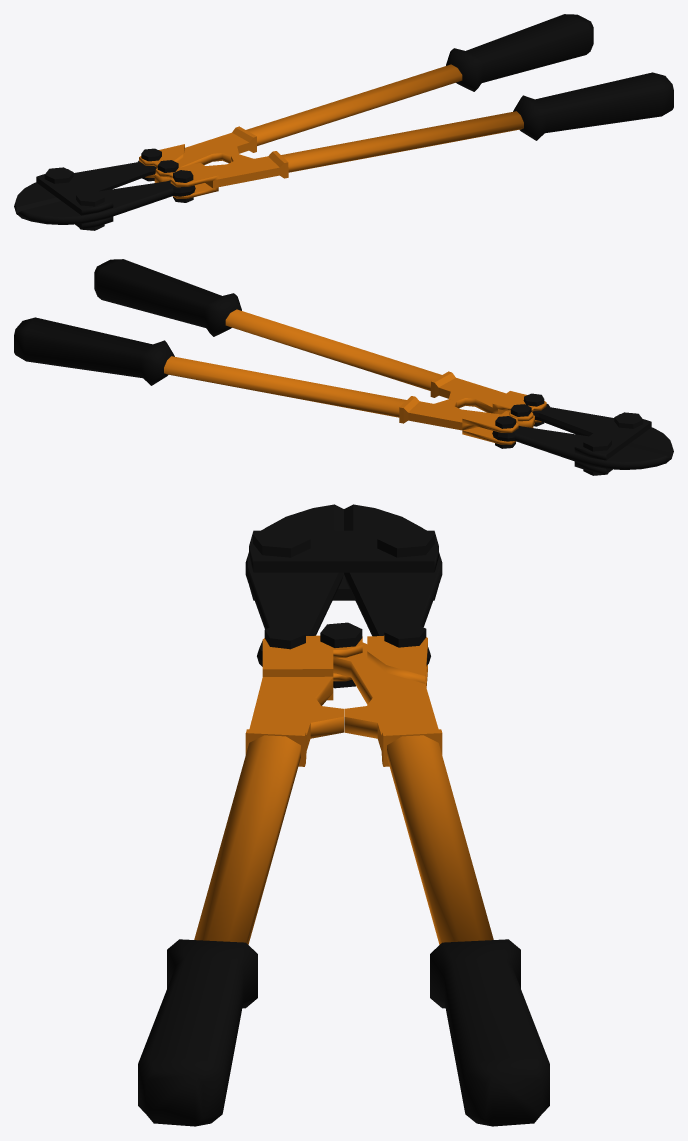
The model's file is pince-coupante.obj.
3 views of the same model, one above another, from view 1: azimuth 30°, elevation 25°; view 2: azimuth 150°, elevation 25°; view 3: azimuth 270°, elevation 25° (orthographic). The views are drawn at different scales.
Parts seen in each view (by area): view 1: Circle; view 2: Circle; view 3: Circle.
Part boxes in pixels (box(x1,y1,x2,y2)): Circle: box(14, 14, 673, 230); Circle: box(14, 259, 673, 475); Circle: box(138, 504, 549, 1126).
Bounding box in the file's own units: 60 × 3.07 × 17.48.
